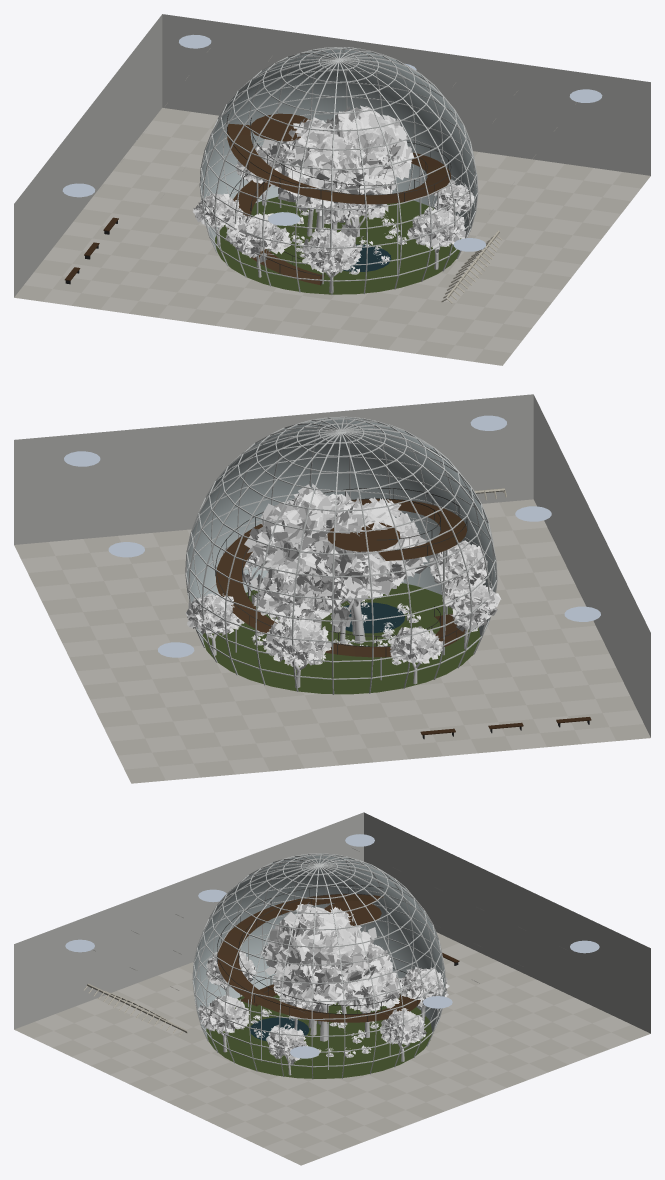
The model's file is academy_int.glb.
The picture shows the model from 3 angles, top to bottom: view 1: azimuth 30°, elevation 25°; view 2: azimuth 150°, elevation 25°; view 3: azimuth 270°, elevation 25°; orthographic projection. The views are drawn at different scales.
Visible parts, largest first — view 1: I_concrete, I_x_plaster, I_metal, I_glassI, I_grass, I_p_tree_ficus__0, I_p_tree_ficus2__0, I_x_veneer, I_p_tree_plane2__0, I_sky, I_x_marble_white, I_p_potted_plant_02__1; view 2: I_concrete, I_x_plaster, I_metal, I_glassI, I_p_tree_ficus__0, I_grass, I_p_tree_ficus2__0, I_x_veneer, I_p_tree_plane2__0, I_sky, I_x_marble_white, I_p_potted_plant_02__1; view 3: I_concrete, I_x_plaster, I_metal, I_glassI, I_p_tree_ficus2__0, I_grass, I_p_tree_ficus__0, I_x_veneer, I_sky, I_p_tree_plane2__0, I_x_marble_white, I_p_potted_plant_02__1.
Boxes of the visible parts, x1,y1,x2,y2 form: I_concrete: (14, 108, 650, 365); I_x_plaster: (14, 14, 650, 297); I_metal: (65, 47, 478, 294); I_glassI: (201, 48, 476, 249); I_grass: (215, 196, 461, 294); I_p_tree_ficus__0: (236, 117, 395, 293); I_p_tree_ficus2__0: (192, 105, 466, 269); I_x_veneer: (64, 113, 450, 285); I_p_tree_plane2__0: (225, 141, 474, 277); I_sky: (62, 34, 602, 251); I_x_marble_white: (343, 230, 501, 303); I_p_potted_plant_02__1: (291, 209, 406, 273); I_concrete: (14, 499, 650, 783); I_x_plaster: (14, 394, 650, 737); I_metal: (185, 416, 589, 739); I_glassI: (187, 418, 495, 643); I_p_tree_ficus__0: (185, 496, 487, 687); I_grass: (202, 583, 480, 694); I_p_tree_ficus2__0: (244, 483, 442, 684); I_x_veneer: (215, 499, 591, 735); I_p_tree_plane2__0: (221, 547, 501, 648); I_sky: (64, 415, 600, 657); I_x_marble_white: (331, 488, 506, 633); I_p_potted_plant_02__1: (251, 599, 420, 665); I_concrete: (14, 932, 650, 1165); I_x_plaster: (14, 812, 650, 1033); I_metal: (192, 853, 458, 1079); I_glassI: (193, 854, 444, 1037); I_p_tree_ficus2__0: (198, 922, 403, 1052); I_grass: (206, 994, 431, 1078); I_p_tree_ficus__0: (206, 902, 449, 1061); I_x_veneer: (217, 894, 459, 1022); I_sky: (65, 834, 599, 1058); I_p_tree_plane2__0: (260, 944, 393, 1075); I_x_marble_white: (84, 983, 309, 1041); I_p_potted_plant_02__1: (250, 1001, 378, 1057).
Size of the model in its own units: 67.61 by 20.11 by 67.93.
